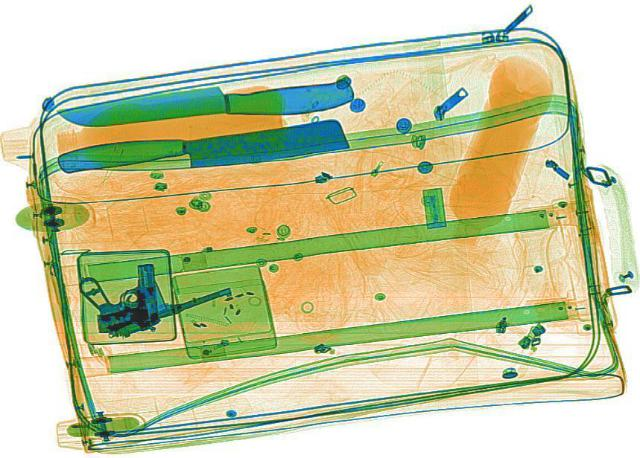Gun: (61, 238, 236, 337), (89, 262, 159, 336)
Knife: (52, 70, 356, 127), (49, 119, 358, 174)
